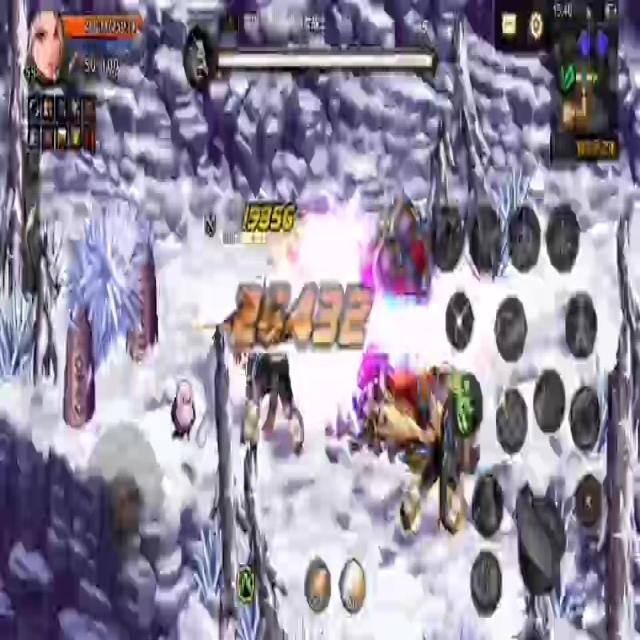player: (196, 310, 251, 452)
